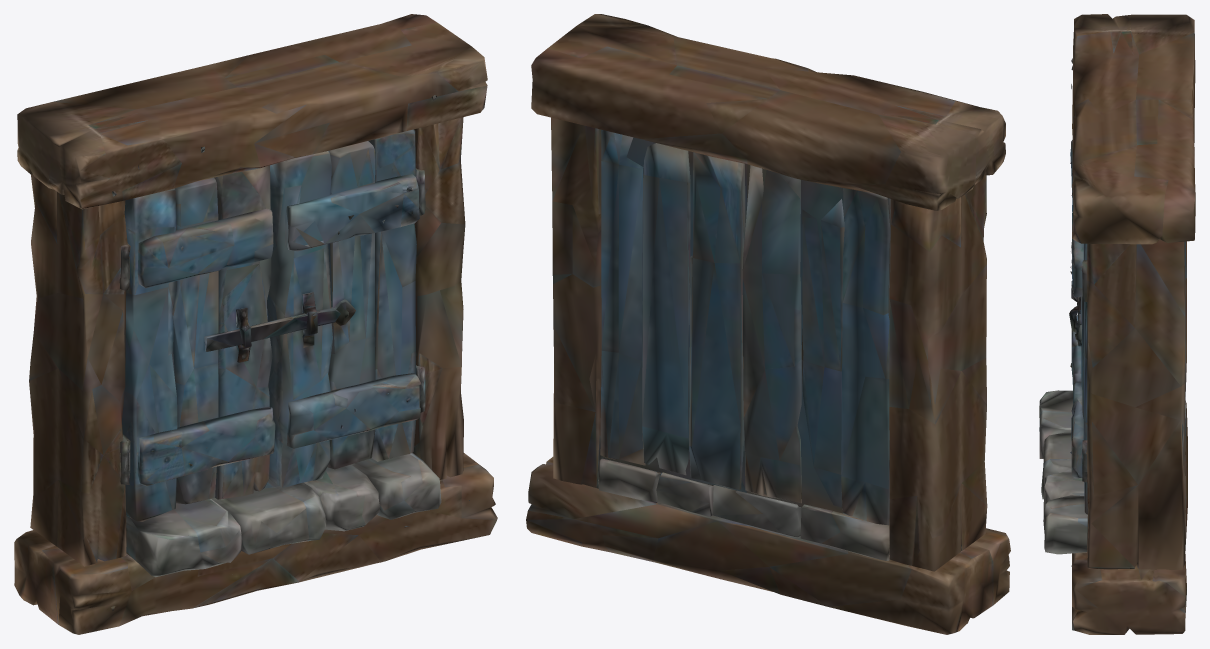
Rendered from k-win-closed.glb.
3 renders of one model, left to right at view 1: azimuth 30°, elevation 25°; view 2: azimuth 150°, elevation 25°; view 3: azimuth 270°, elevation 25°, orthographic. The views are drawn at different scales.
Size of the model in its own units: 0.8833 by 0.9526 by 0.3091.
Materials: 1 (1 with a texture image).
